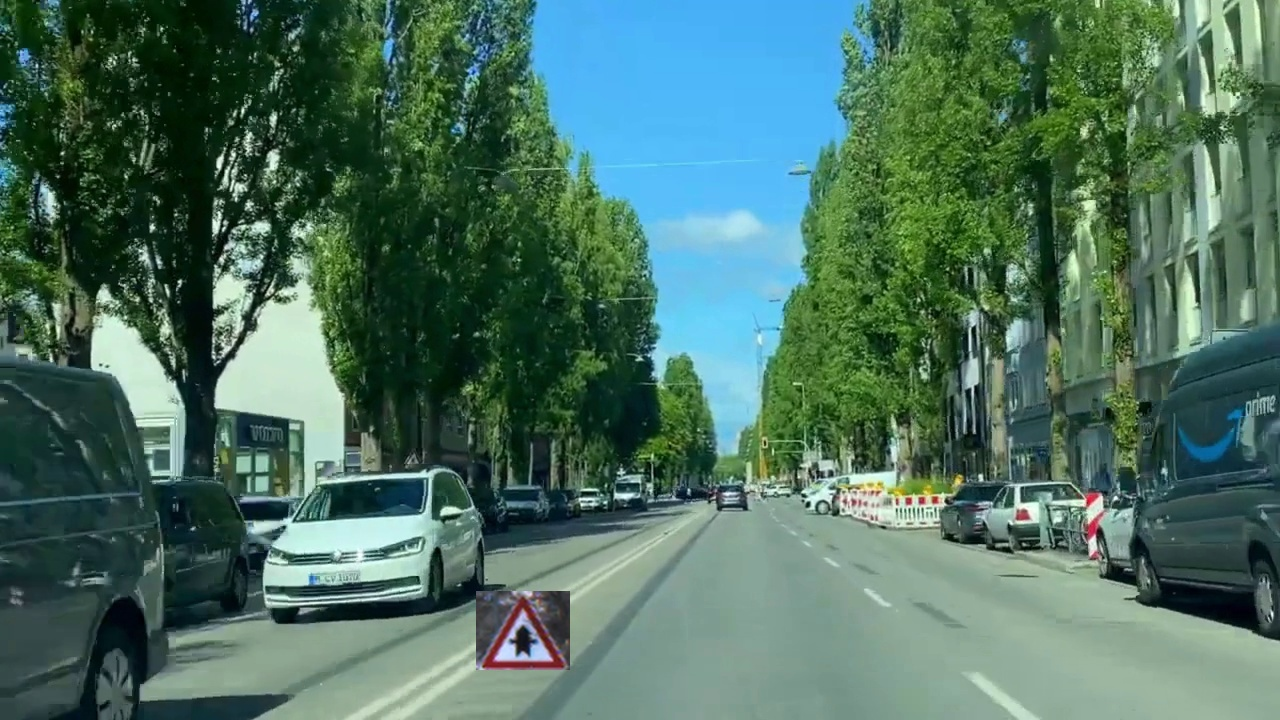Right-of-way: (476, 591, 570, 670)
